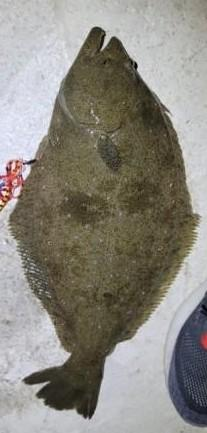fish: (9, 26, 198, 423)
